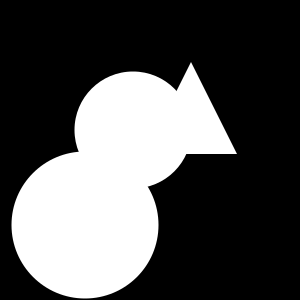rectangle: (12, 152, 158, 298), (74, 72, 192, 189)
triangle: (145, 62, 237, 154)
